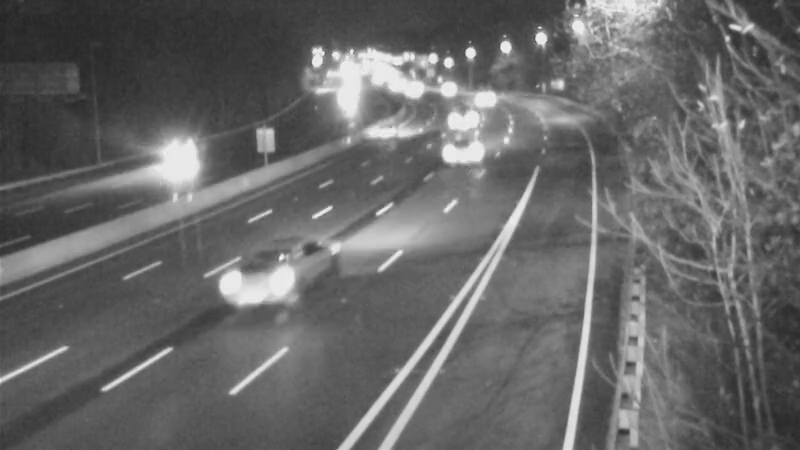vehicle: (222, 240, 302, 320), (137, 114, 217, 194), (421, 62, 471, 112), (459, 73, 509, 123), (440, 90, 490, 140), (362, 101, 412, 151), (437, 120, 487, 170)
